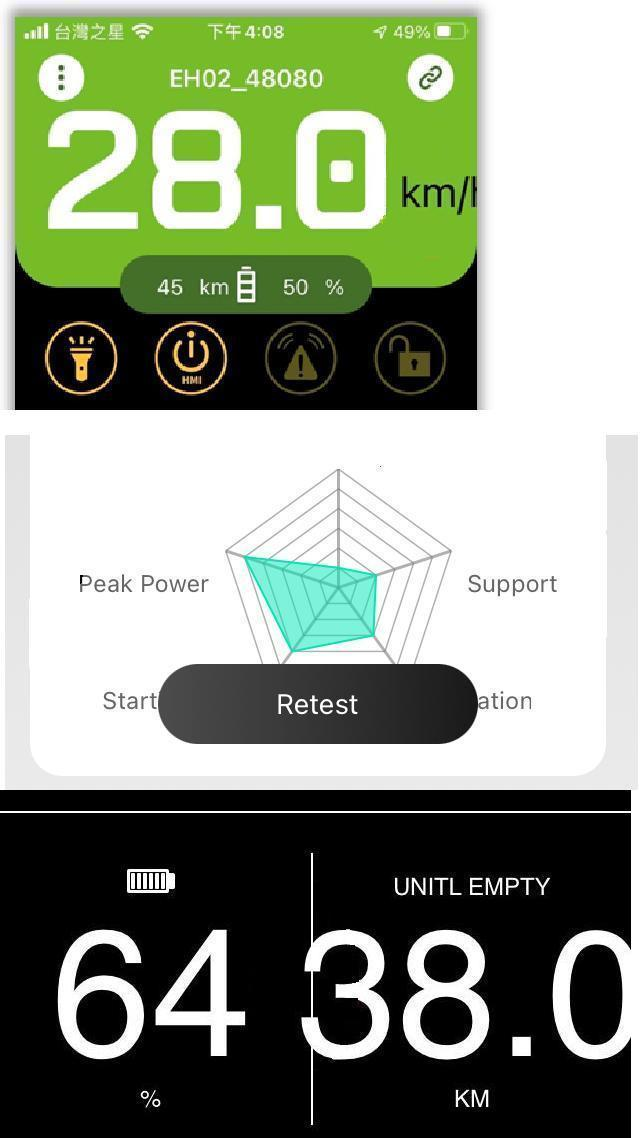Icon: (44, 321, 120, 396), (372, 320, 448, 395), (156, 318, 230, 392), (262, 319, 336, 393), (404, 52, 458, 103), (34, 53, 88, 104)
Image: (126, 869, 178, 898), (232, 263, 262, 303)
Text: (32, 108, 390, 237), (161, 62, 330, 99), (74, 567, 216, 603), (388, 874, 557, 899), (266, 688, 368, 722), (464, 568, 564, 599), (152, 268, 232, 300), (276, 270, 348, 300), (452, 1084, 494, 1114), (139, 1086, 164, 1114)
TextButton: (156, 661, 479, 748), (117, 252, 373, 316)
WS1: (285, 927, 395, 1081), (438, 644, 544, 758), (86, 650, 194, 758), (398, 164, 498, 234)
